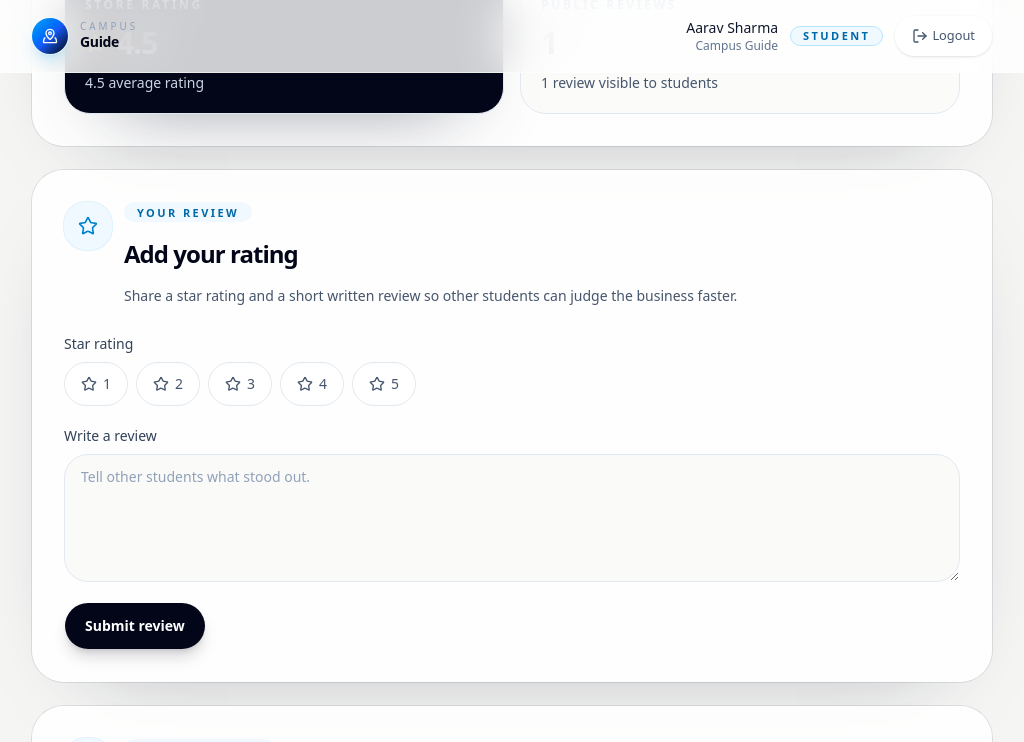
Scenario: business detail and reviews › renders the business detail view and submits a student review
(page scrolled)
Expected: the text "4.5 average rating" is shown, [85,72,204,92]
Click the button named "rate 5 stars" at (384, 384), box [352,362,416,406]
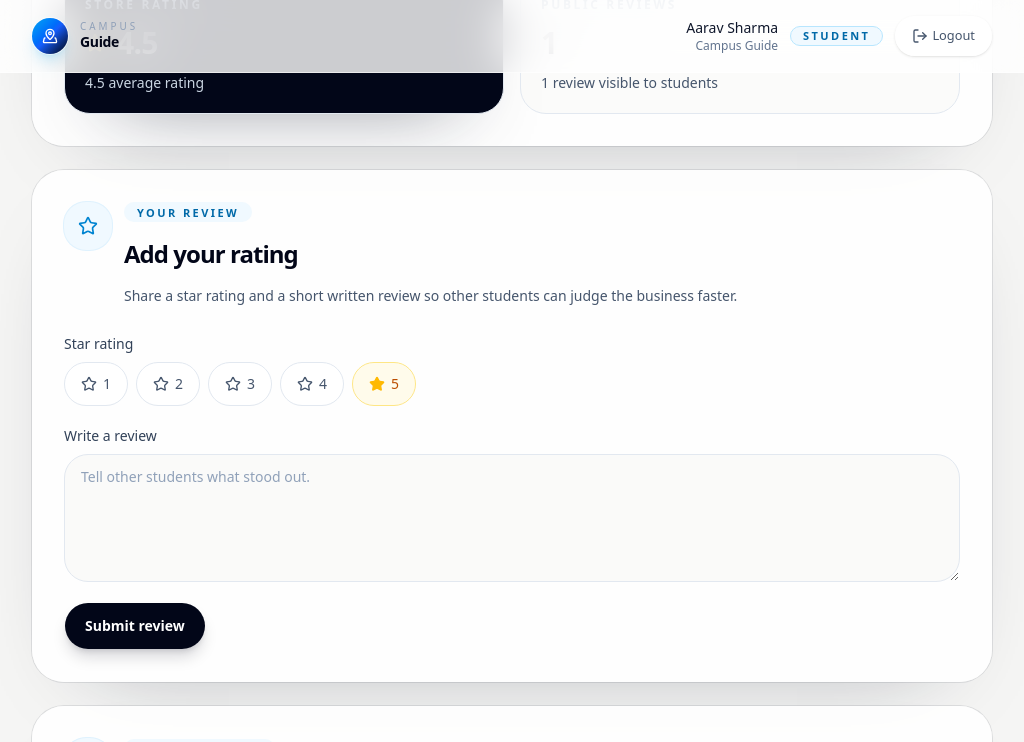
Type "Excellent late-night snacks." into the text box labelled "Write a review" at (512, 518), box [64,454,960,582]
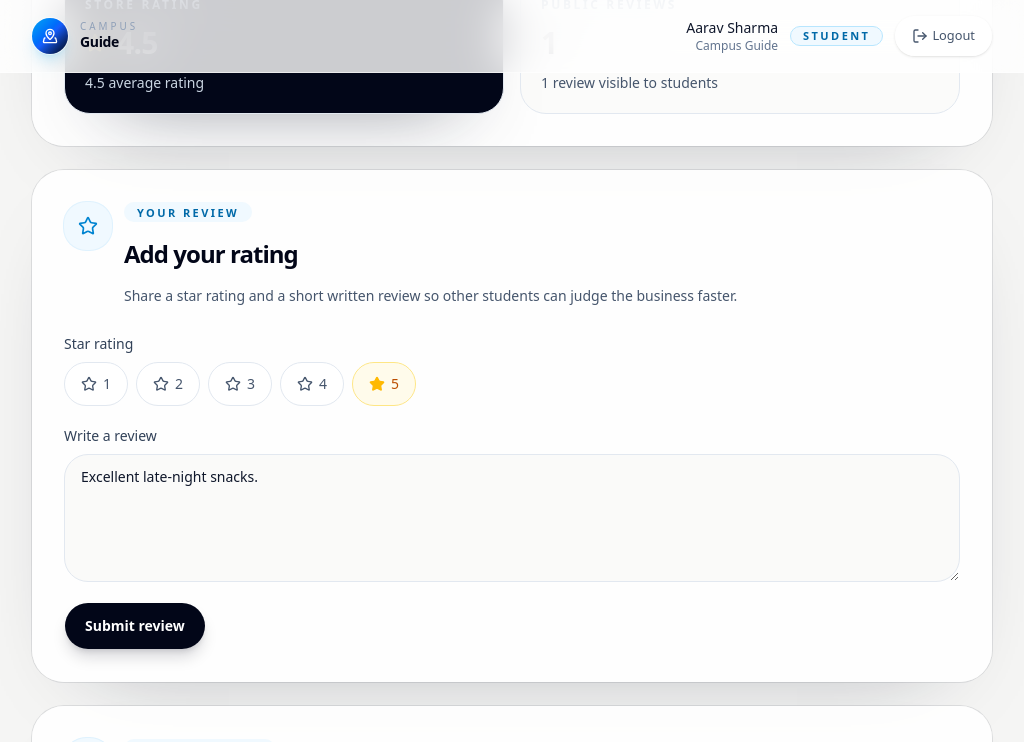
Click the button "Submit review" at (135, 626), box [64,602,206,650]
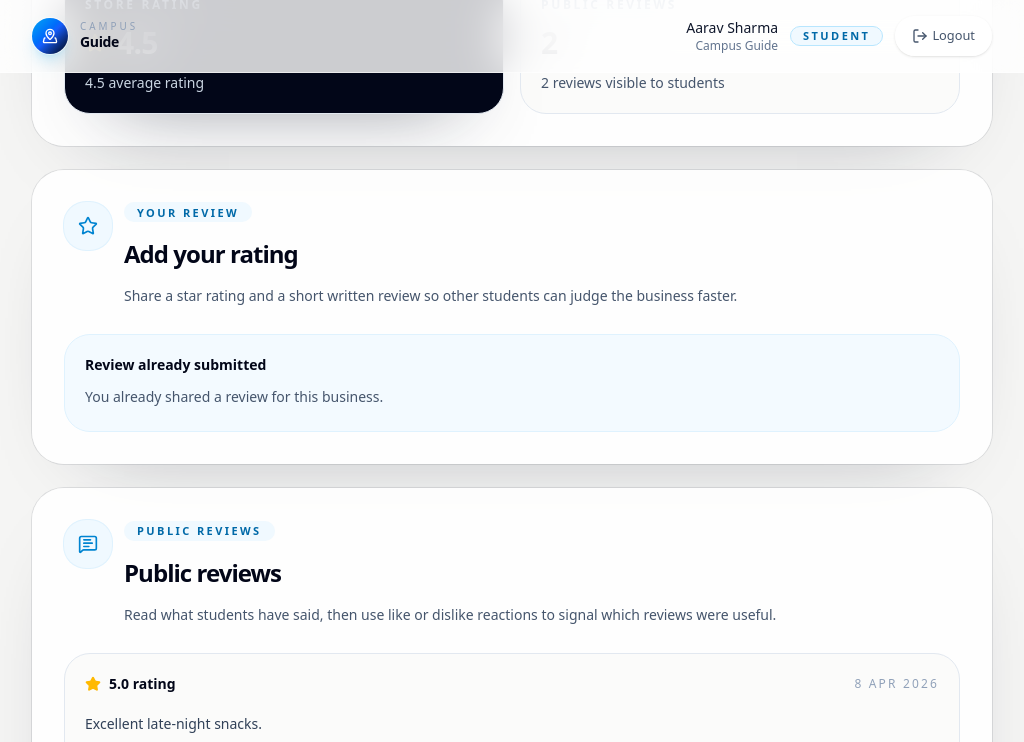
Now the text "Excellent late-night snacks." is shown, box [85,714,262,733]
Now the text "You already shared a review for this business." is shown, box [85,387,383,406]
